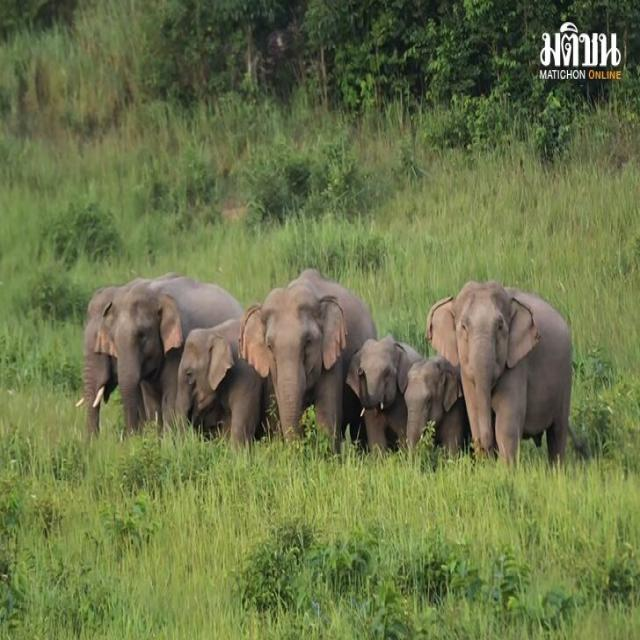Elephant: (421, 273, 601, 487), (63, 241, 221, 469), (215, 274, 378, 458), (175, 286, 283, 480), (403, 255, 470, 517), (356, 302, 418, 456)
